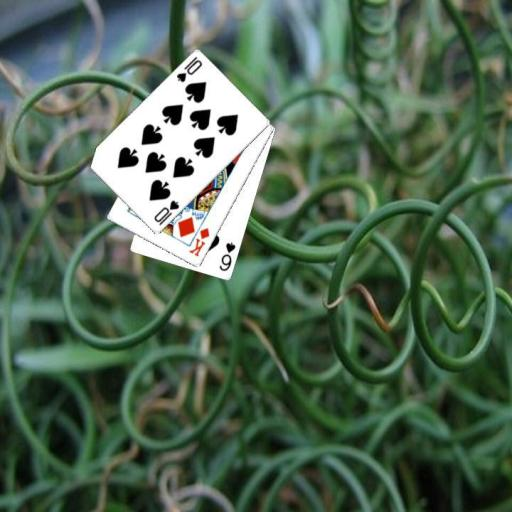10S: (151, 197, 181, 227), (174, 54, 204, 84)
6S: (216, 239, 237, 273)
KD: (186, 225, 211, 258)
